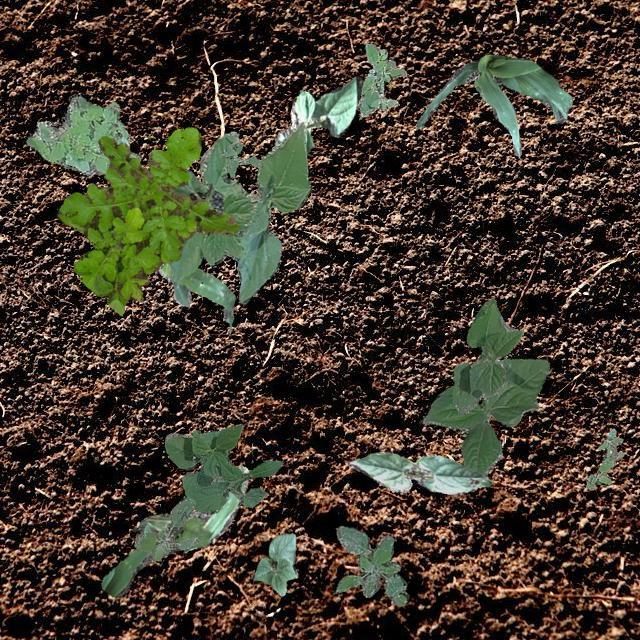crop: (168, 121, 310, 302), (100, 464, 248, 596), (416, 54, 572, 156), (422, 358, 548, 474), (165, 422, 282, 514), (452, 297, 522, 413), (274, 75, 362, 154), (348, 451, 490, 494), (158, 262, 234, 326), (252, 532, 296, 594), (172, 170, 208, 200)
weed: (56, 126, 238, 314), (26, 94, 140, 174), (334, 524, 408, 606), (134, 498, 198, 560), (358, 41, 406, 116), (584, 428, 624, 488), (220, 142, 262, 178)
